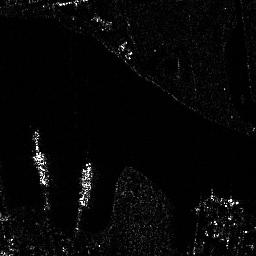ship: (33, 150, 50, 186), (80, 162, 93, 206)
